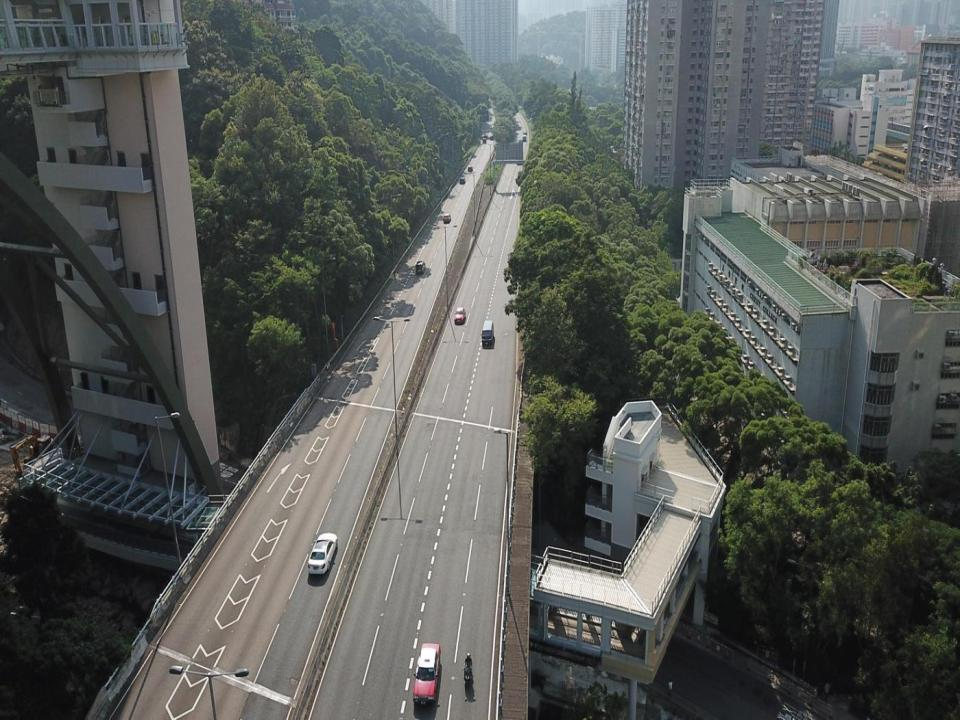car: (412, 642, 442, 706), (306, 532, 338, 574), (454, 306, 466, 324), (415, 260, 426, 275), (442, 213, 451, 224), (458, 176, 466, 184), (467, 164, 473, 172), (482, 137, 487, 144)
van: (480, 320, 494, 345)
